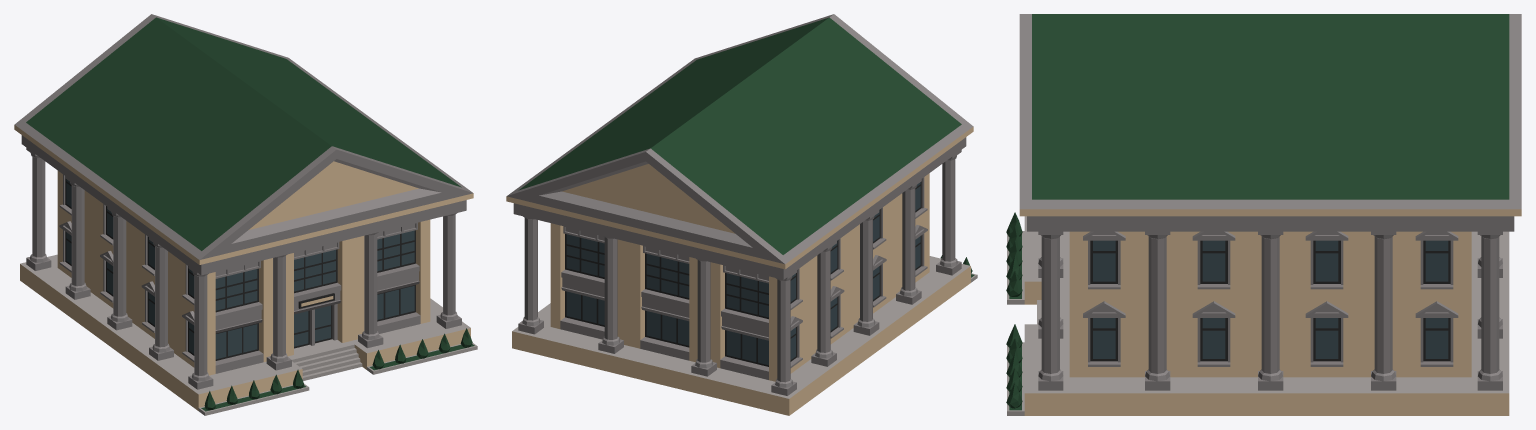
The model's file is buildings_building-bank.fbx.
The picture shows the model from 3 angles, left to right: view 1: azimuth 30°, elevation 25°; view 2: azimuth 150°, elevation 25°; view 3: azimuth 270°, elevation 25°; orthographic projection. The views are drawn at different scales.
Visible parts, largest first — view 1: buildings_building_bank; view 2: buildings_building_bank; view 3: buildings_building_bank.
Part boxes in pixels (box(x1,y1,x2,y2)): buildings_building_bank: box(14, 14, 477, 415); buildings_building_bank: box(506, 14, 977, 415); buildings_building_bank: box(1006, 14, 1521, 415).
Bounding box in the file's own units: 167 × 133 × 200.
